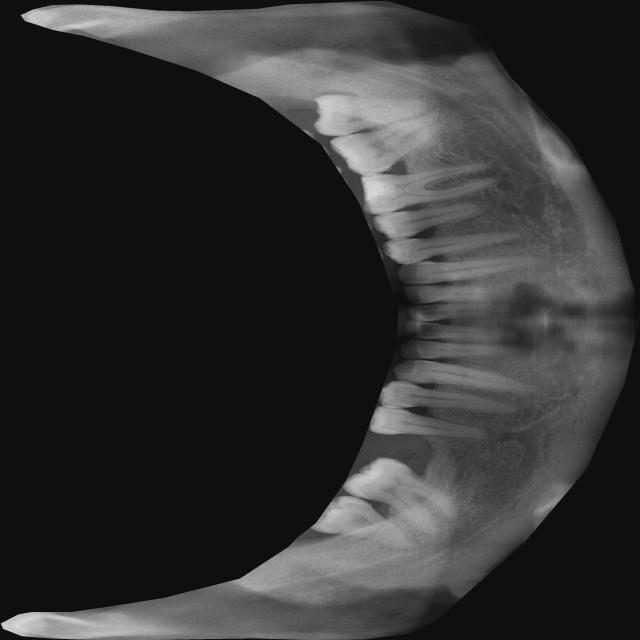mandibula: (1, 0, 640, 640)
